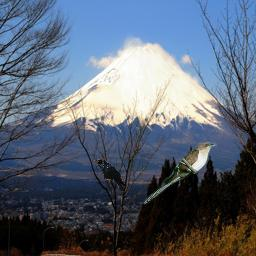Crow: (94, 159, 125, 191)
Cuckoo: (141, 141, 219, 207)
